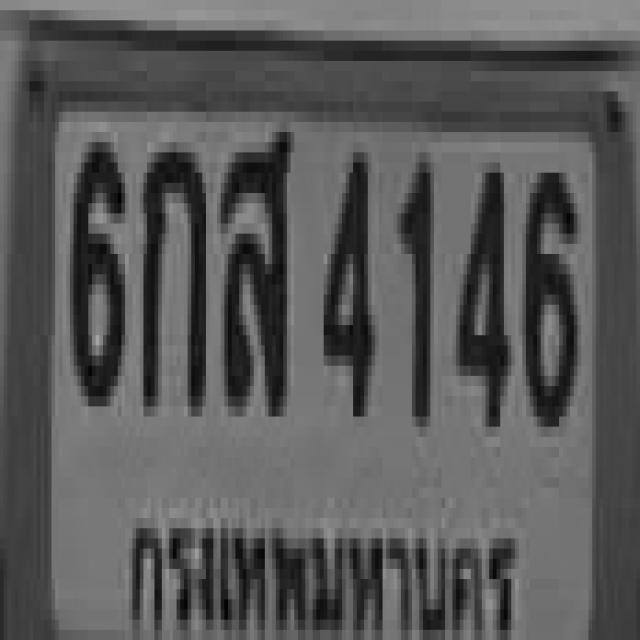1: (398, 152, 430, 416)
10GorGai: (140, 132, 202, 406)
4: (452, 152, 504, 416), (320, 142, 371, 406)
49SorSuea: (217, 122, 287, 406)
6: (66, 132, 122, 396), (522, 162, 574, 416)
Bangkok: (120, 494, 520, 640)
